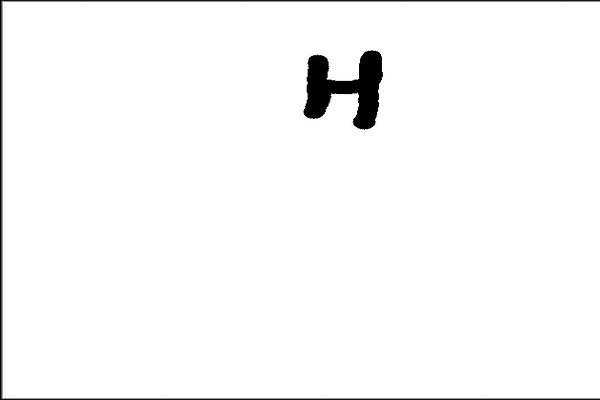H: (295, 44, 388, 137)
